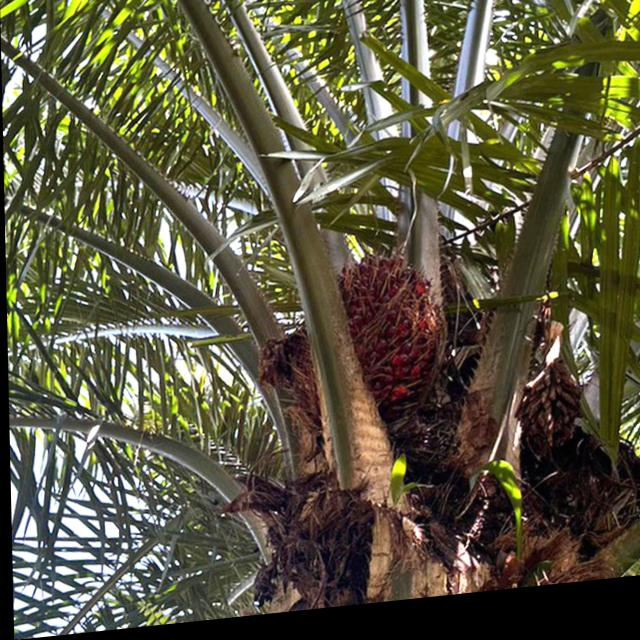ripe: (244, 235, 457, 457)
